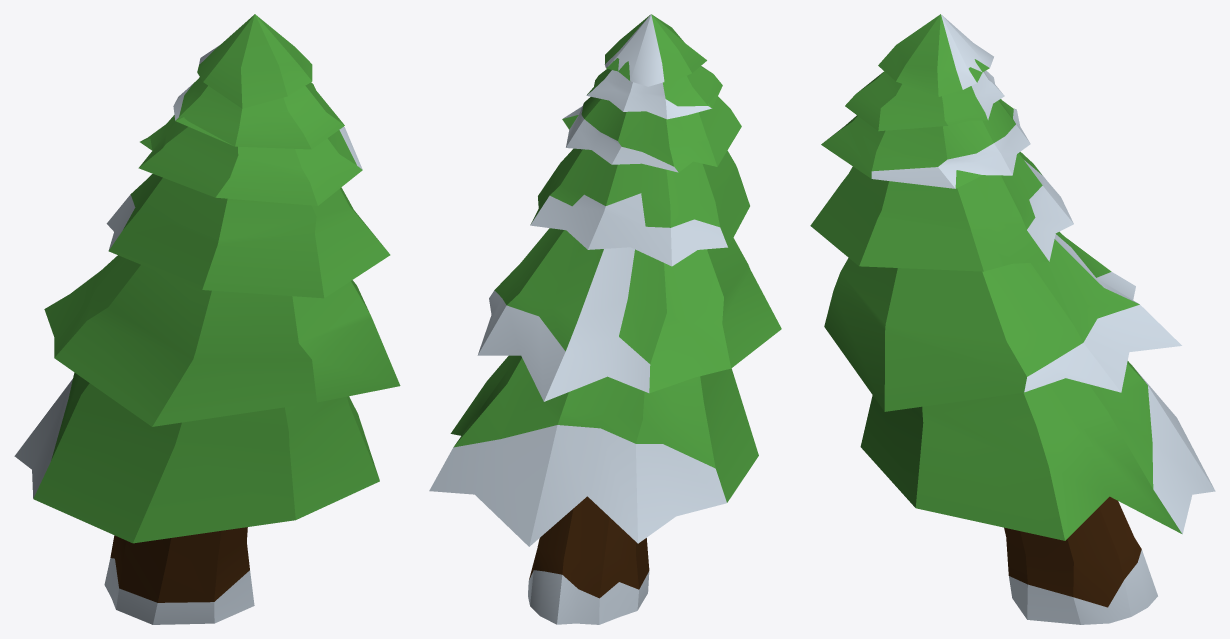
The model's file is snow_tree4.fbx.
3 renders of one model, left to right at view 1: azimuth 30°, elevation 25°; view 2: azimuth 150°, elevation 25°; view 3: azimuth 270°, elevation 25°, orthographic. The views are drawn at different scales.
Visible parts, largest first — view 1: FirTreeSnow4; view 2: FirTreeSnow4; view 3: FirTreeSnow4.
Part boxes in pixels (bbox=[...]): FirTreeSnow4: bbox=[14, 14, 400, 624]; FirTreeSnow4: bbox=[429, 14, 781, 624]; FirTreeSnow4: bbox=[810, 14, 1215, 624].
Size of the model in its own units: 3.02 by 5.63 by 3.54.
